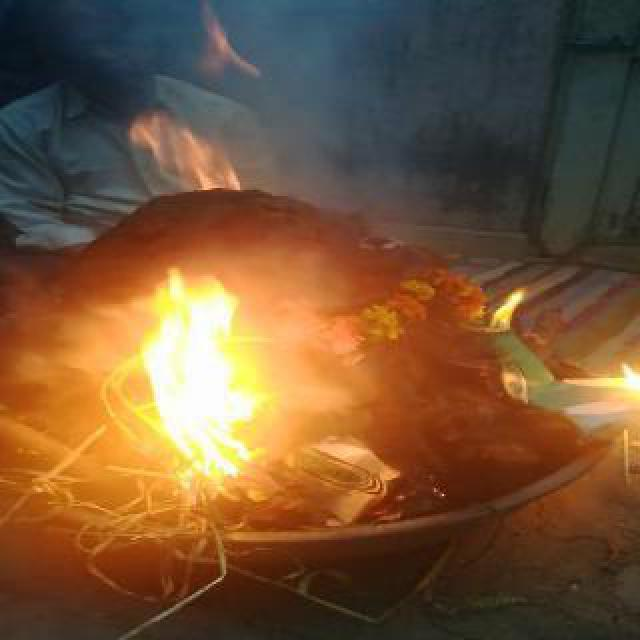Fire: (136, 266, 260, 490), (130, 106, 248, 198), (190, 2, 256, 84), (572, 354, 638, 410), (482, 278, 526, 336)
Smoke: (256, 266, 376, 448)
